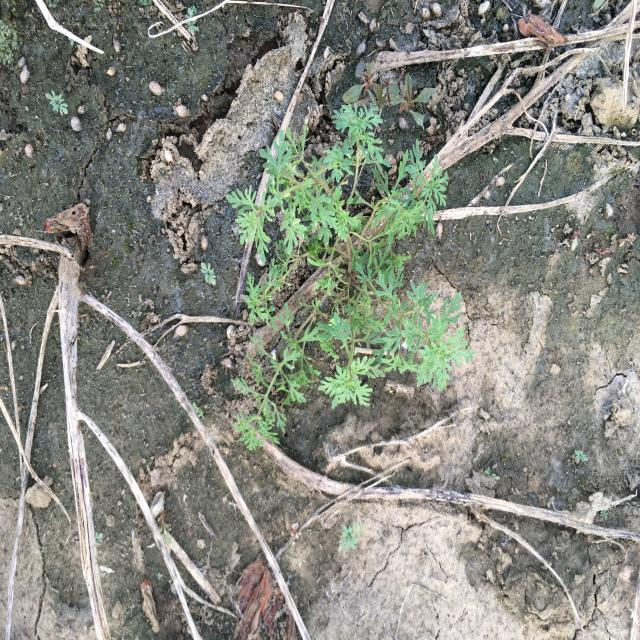Ragweed: (224, 101, 476, 453)
